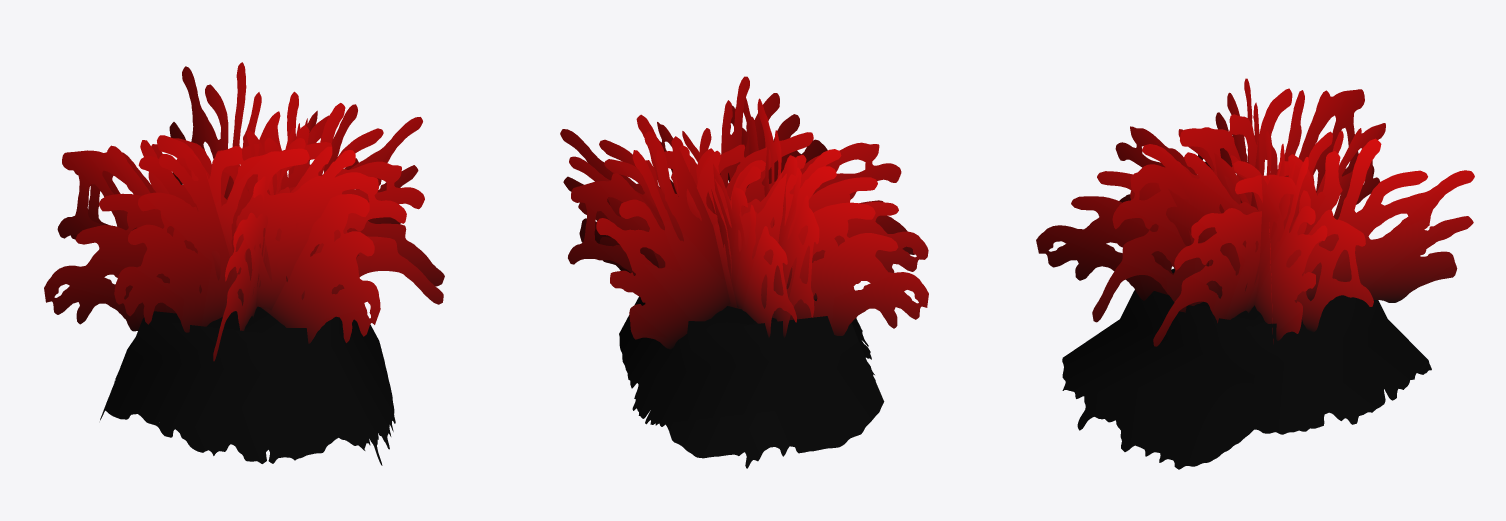
File: Anemone.fbx
3 views of the same model, side by side, from view 1: azimuth 30°, elevation 25°; view 2: azimuth 150°, elevation 25°; view 3: azimuth 270°, elevation 25° (orthographic). The views are drawn at different scales.
Parts seen in each view (by area): view 1: Anemone_LOD0; view 2: Anemone_LOD0; view 3: Anemone_LOD0.
Boxes of the visible parts, box(x1,y1,x2,y2) form: Anemone_LOD0: box(44, 62, 444, 465); Anemone_LOD0: box(560, 76, 928, 468); Anemone_LOD0: box(1036, 78, 1474, 469).
Size of what is drawn, in the model's own units: 89.87 by 68.16 by 94.26.
